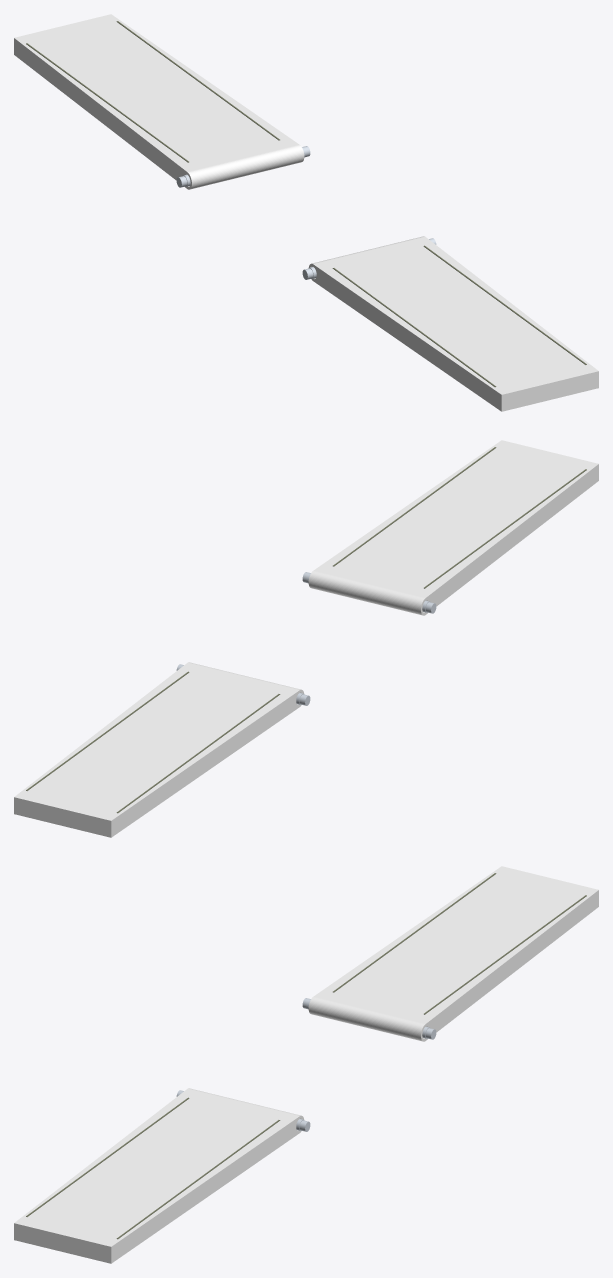
The model's file is strap-canvas.glb.
3 renders of one model, top to bottom at view 1: azimuth 30°, elevation 25°; view 2: azimuth 150°, elevation 25°; view 3: azimuth 330°, elevation 25°, orthographic.
Visible parts, largest first — view 1: DD_ARCH_STRAP_6, DD_ARCH_STRAP_12; view 2: DD_ARCH_STRAP_12, DD_ARCH_STRAP_6; view 3: DD_ARCH_STRAP_6, DD_ARCH_STRAP_12.
Part boxes in pixels (bbox=[...]): DD_ARCH_STRAP_6: bbox=[308, 236, 598, 411]; DD_ARCH_STRAP_12: bbox=[14, 14, 304, 189]; DD_ARCH_STRAP_12: bbox=[14, 662, 304, 837]; DD_ARCH_STRAP_6: bbox=[308, 440, 598, 615]; DD_ARCH_STRAP_6: bbox=[14, 1088, 304, 1263]; DD_ARCH_STRAP_12: bbox=[308, 866, 598, 1041].
Size of the model in its own units: 23.8 by 3.11 by 156.
